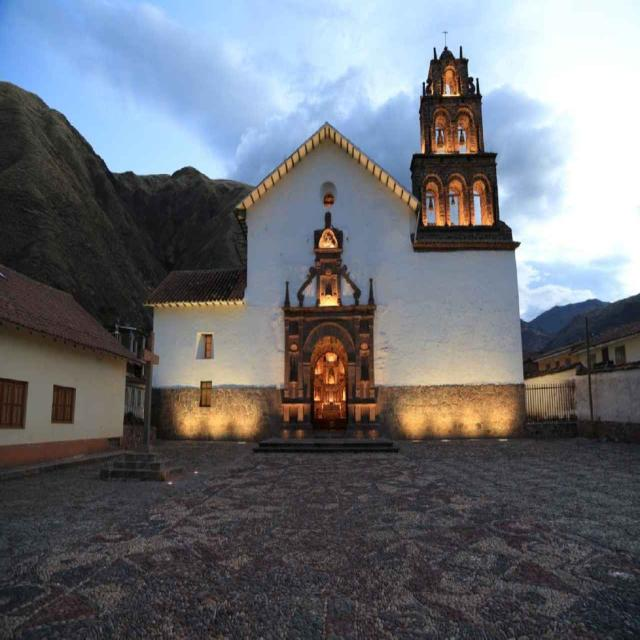6: (409, 41, 534, 456)
CAMPANARIO: (416, 45, 512, 234)
CUPULA: (0, 0, 576, 472)
SIMETRIA COLONIAL: (266, 240, 388, 452)
